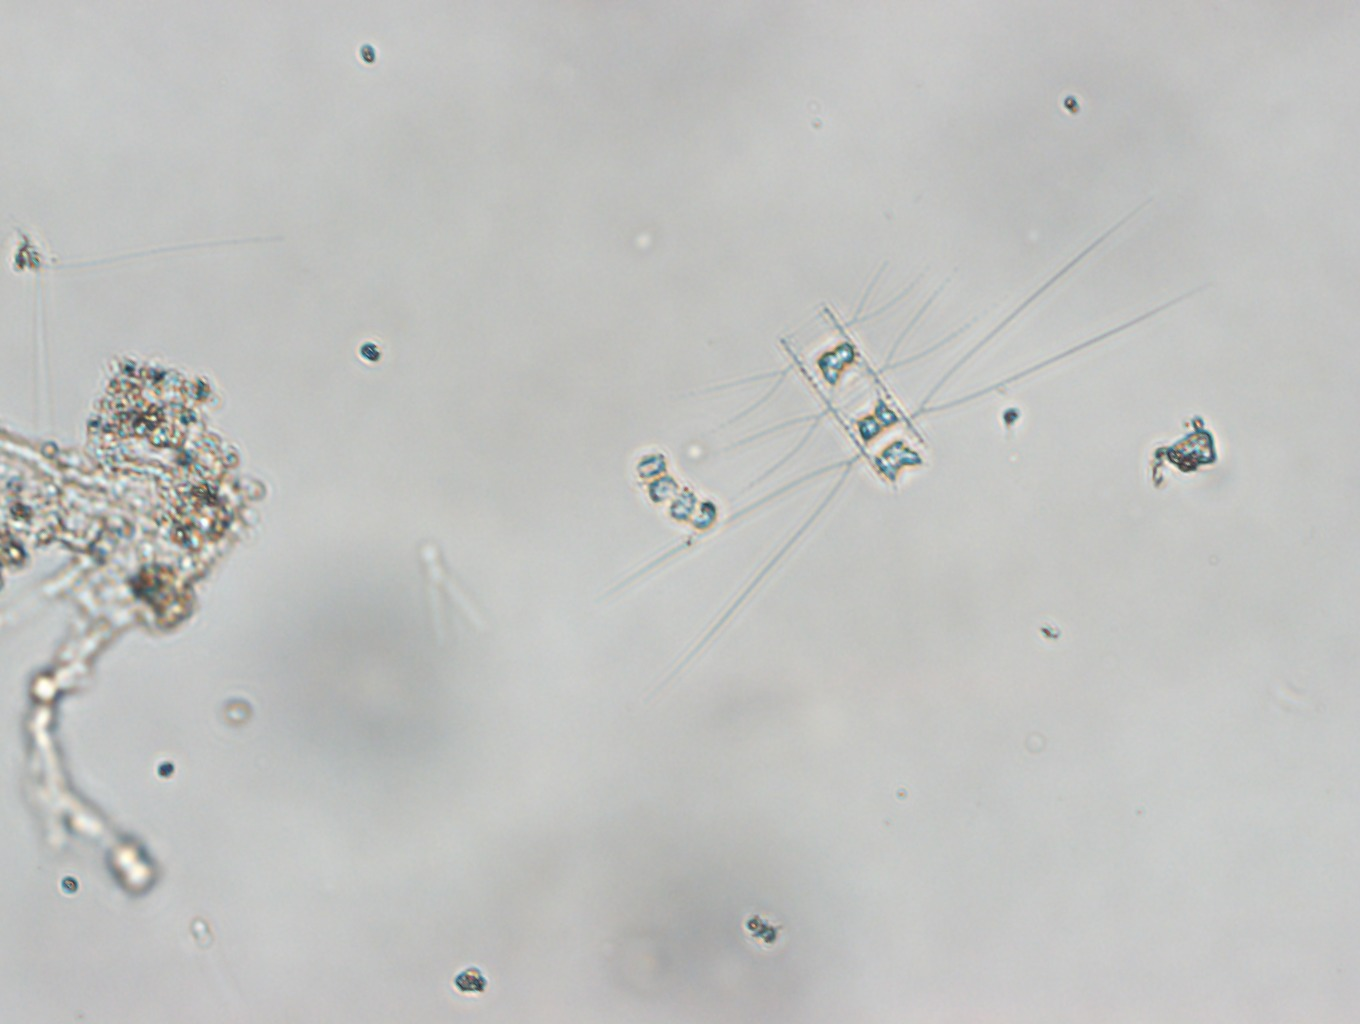chaetoceros: (599, 194, 1154, 680)
